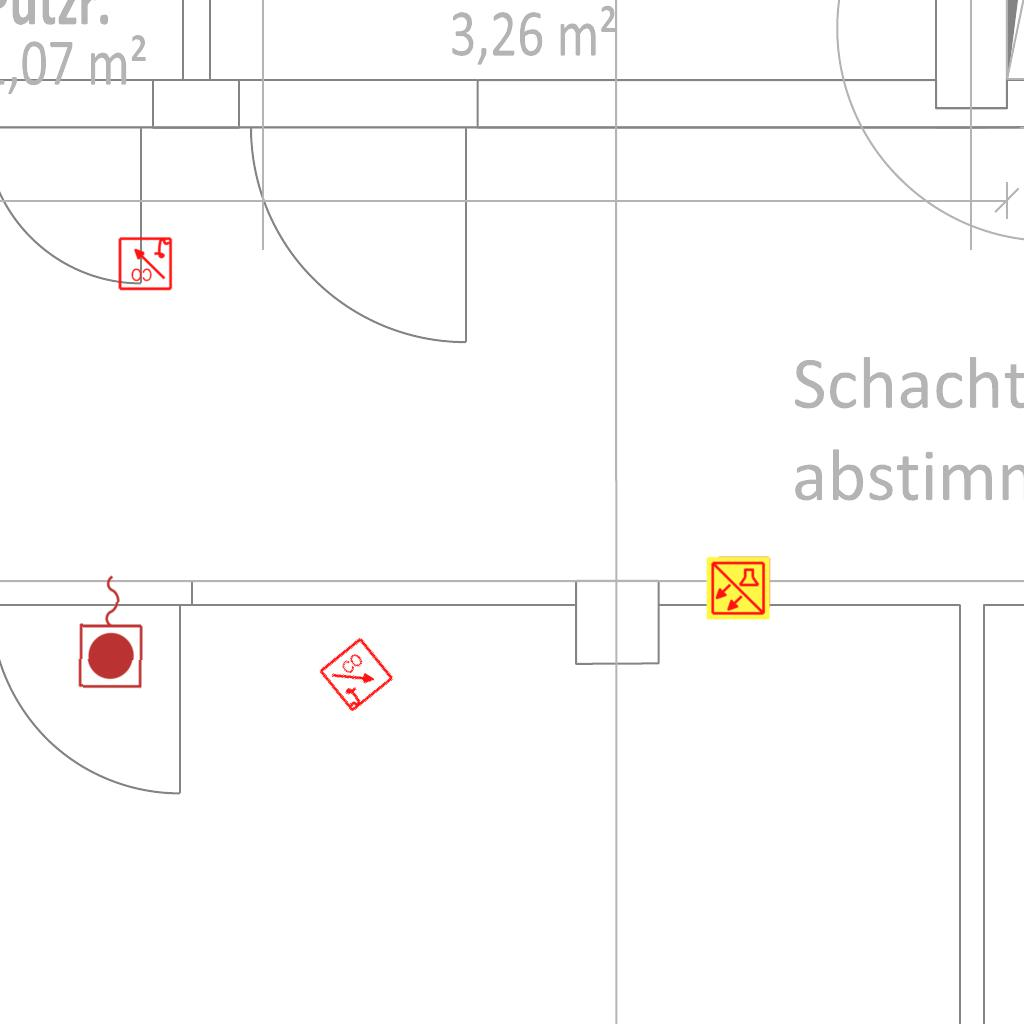OKW_Multisensormelder_(Kombination_optischer_Rauch-Kahlenmonoxid_Waerme-Melder): (705, 555, 771, 621)
ROA_Rauchmelder_optisch_mit_Signalgeber_(Sockelsirene): (317, 635, 397, 715), (117, 235, 173, 291)
Zugtaster: (74, 569, 150, 693)
